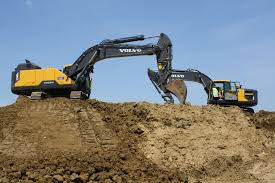excavator: (8, 32, 175, 103), (148, 67, 260, 112)
